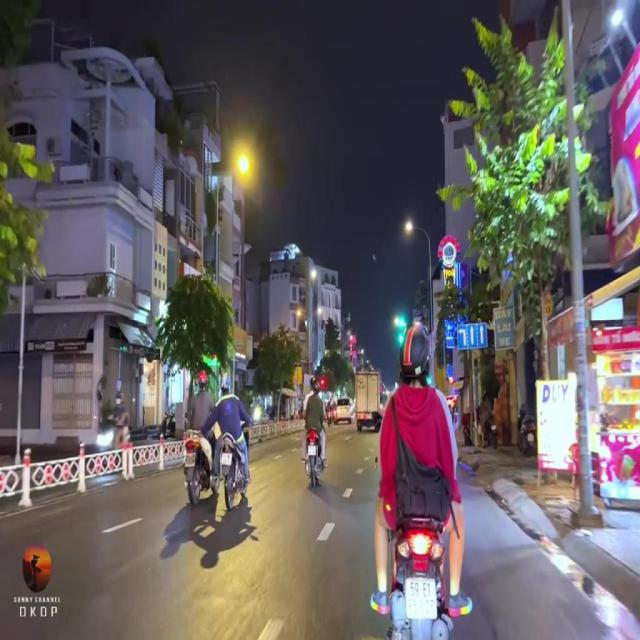huong_di_tren_moi_lan_duong_theo_vach_ke_duong: (457, 324, 487, 350)
